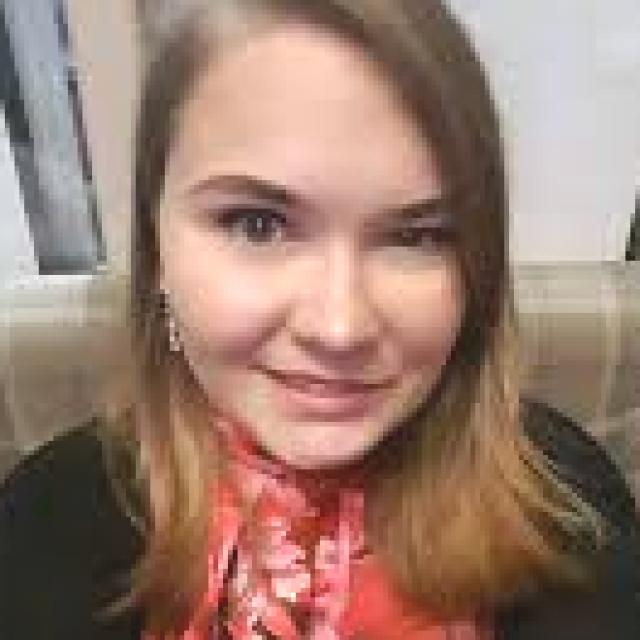stroke_face: (164, 55, 495, 469)
